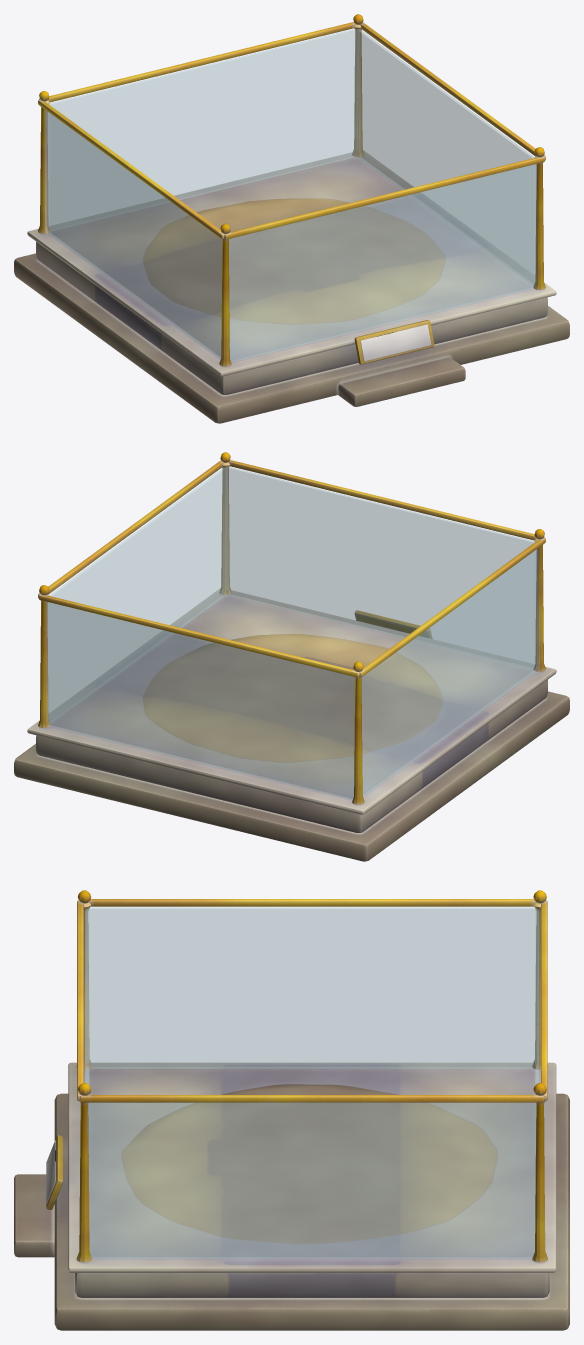
Rendered from display_case_big.glb.
3 views of the same model, one above another, from view 1: azimuth 30°, elevation 25°; view 2: azimuth 150°, elevation 25°; view 3: azimuth 270°, elevation 25° (orthographic). The views are drawn at different scales.
Visible parts, largest first — view 1: SM_DisplayCaseBig; view 2: SM_DisplayCaseBig; view 3: SM_DisplayCaseBig.
Boxes of the visible parts, <box> form: SM_DisplayCaseBig: <box>14,14,569,423</box>; SM_DisplayCaseBig: <box>14,452,569,861</box>; SM_DisplayCaseBig: <box>14,890,569,1330</box>.
Size of what is drawn, in the model's own units: 3.8 by 1.93 by 4.1.
2 materials, 1 textured.
